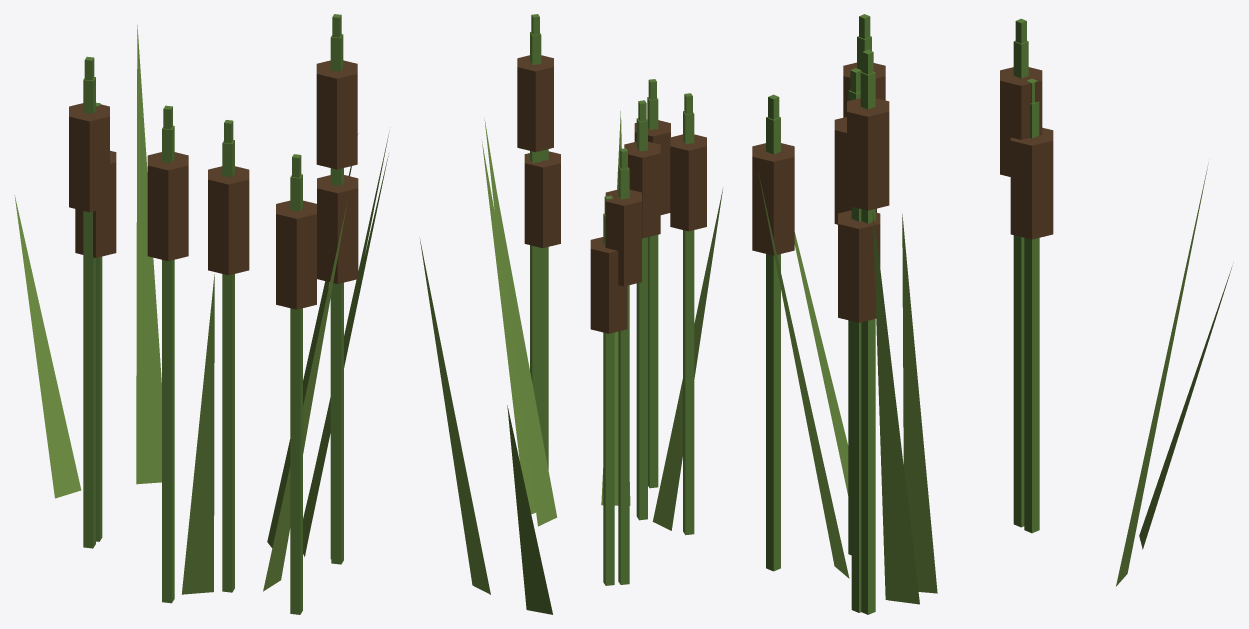
Rendered from cattails-b.glb.
3 renders of one model, left to right at view 1: azimuth 30°, elevation 25°; view 2: azimuth 150°, elevation 25°; view 3: azimuth 270°, elevation 25°, orthographic. The views are drawn at different scales.
Visible parts, largest first — view 1: cattails-b; view 2: cattails-b; view 3: cattails-b.
Boxes of the visible parts, x1,y1,x2,y2 form: cattails-b: (14, 14, 389, 614); cattails-b: (420, 14, 723, 614); cattails-b: (752, 14, 1232, 614).
Size of the model in its own units: 0.159 by 0.3282 by 0.2562.
